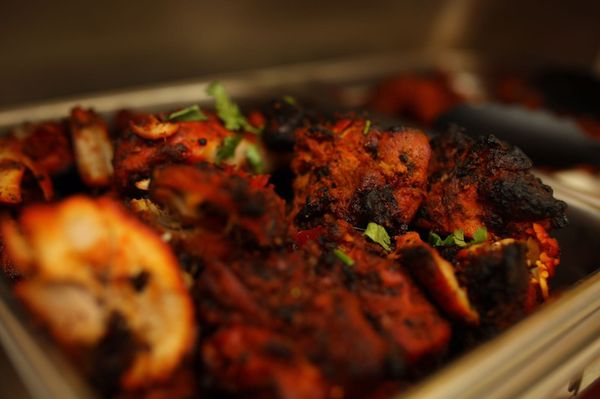sandwich: (2, 80, 586, 392)
